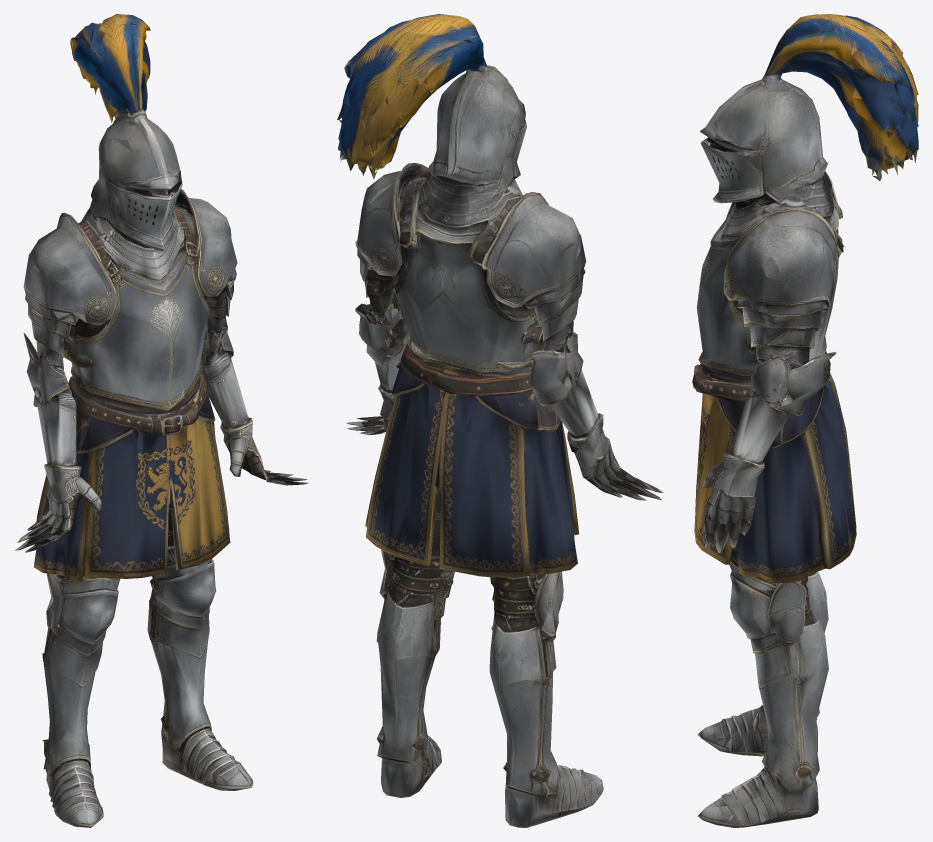
Rendered from human-b-n.glb.
3 views of the same model, side by side, from view 1: azimuth 30°, elevation 25°; view 2: azimuth 150°, elevation 25°; view 3: azimuth 270°, elevation 25° (orthographic). The views are drawn at different scales.
Parts seen in each view (by area): view 1: Mesh_0.002; view 2: Mesh_0.002; view 3: Mesh_0.002.
Part boxes in pixels (x1=…): Mesh_0.002: x1=15, y1=14, x2=308, y2=827; Mesh_0.002: x1=337, y1=14, x2=663, y2=827; Mesh_0.002: x1=692, y1=14, x2=918, y2=827.
Size of the model in its own units: 0.746 by 1.8 by 0.4787.
1 material, 1 textured.
